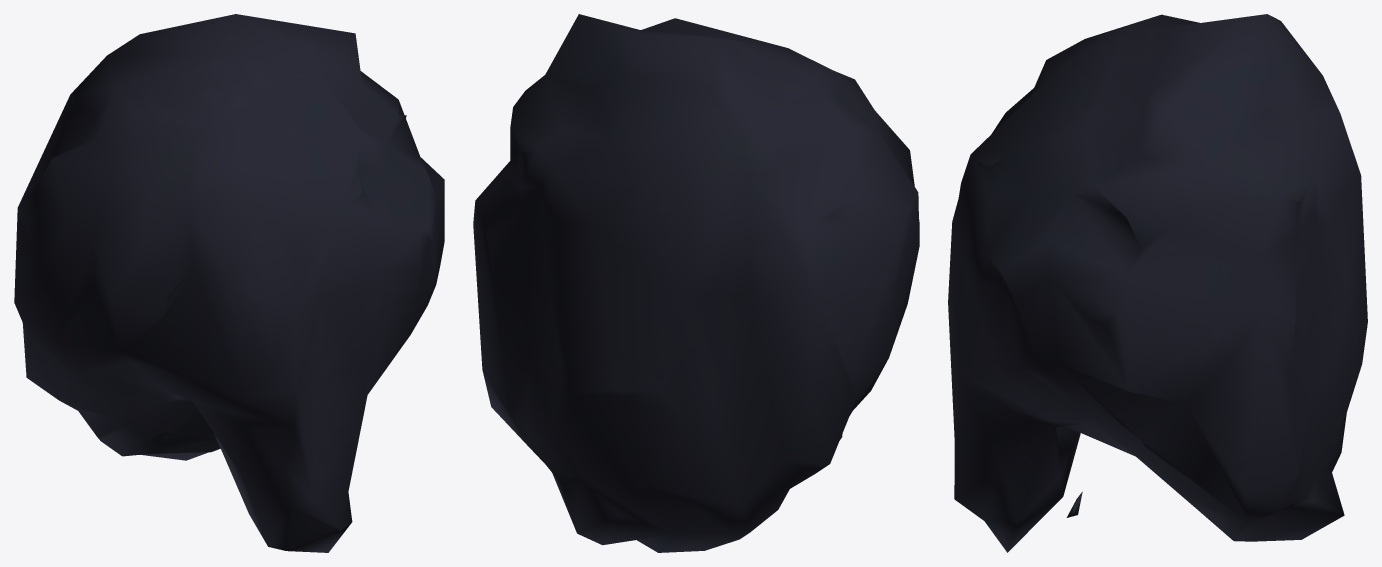
File: tripo_convert_a702df35-b1ad-44b5-9209-ebd663b1a53e.fbx
3 views of the same model, side by side, from view 1: azimuth 30°, elevation 25°; view 2: azimuth 150°, elevation 25°; view 3: azimuth 270°, elevation 25° (orthographic). The views are drawn at different scales.
Parts seen in each view (by area): view 1: tripo_node_a702df35; view 2: tripo_node_a702df35; view 3: tripo_node_a702df35.
Boxes of the visible parts, left/top/right/bottom form: tripo_node_a702df35: left=14, top=14, right=444, bottom=552; tripo_node_a702df35: left=473, top=14, right=919, bottom=552; tripo_node_a702df35: left=948, top=14, right=1367, bottom=552.
Bounding box in the file's own units: 84.87 × 73.58 × 100.
Materials: 1 (1 with a texture image).
